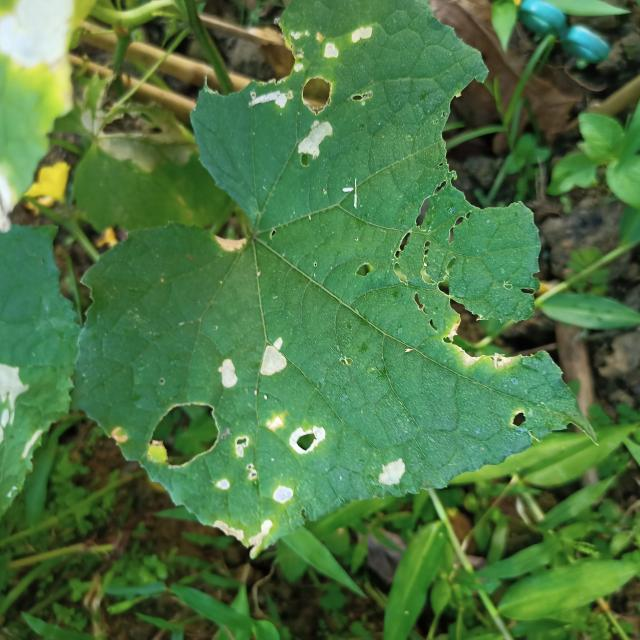disease_cucumber: (203, 410, 411, 558), (247, 26, 390, 163), (204, 333, 297, 393)
